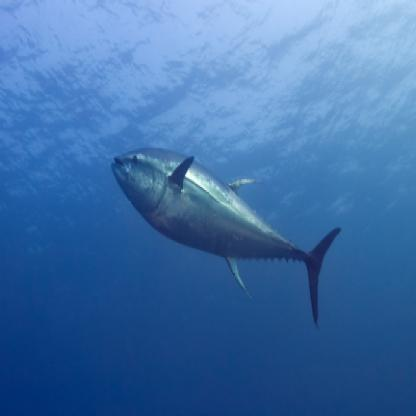Scombridae -Tunas-: (106, 140, 346, 336)
